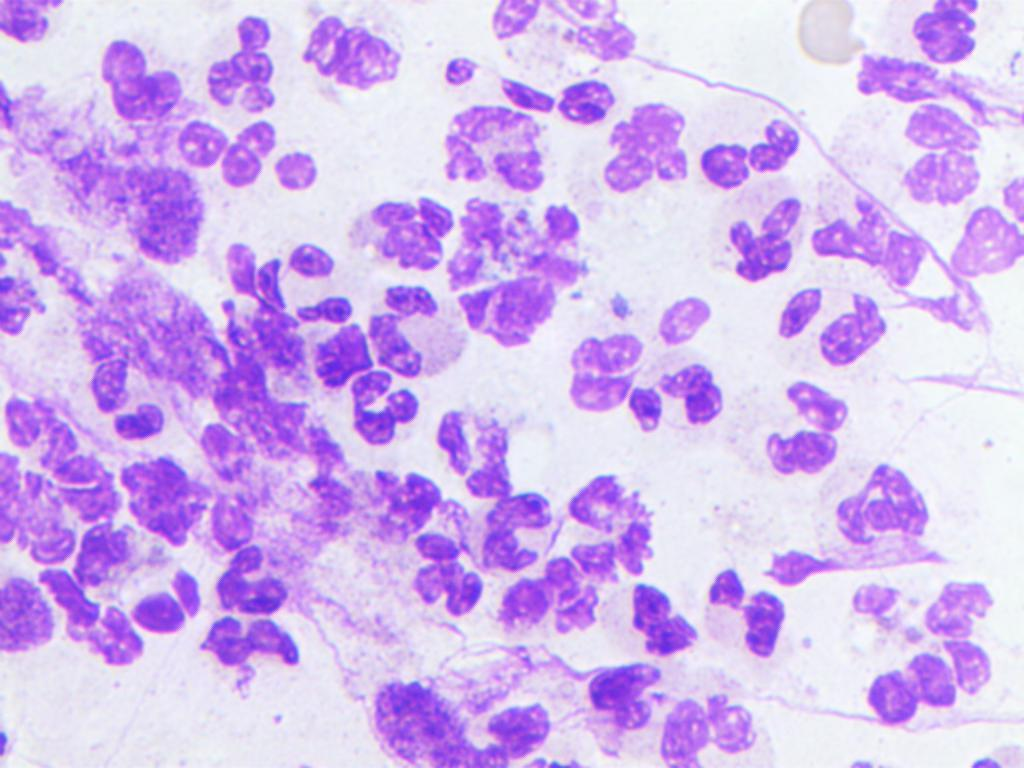erythrocyte: (789, 3, 873, 72)
neutrophil: (444, 188, 595, 344), (352, 658, 560, 768), (838, 619, 998, 740), (20, 559, 158, 676), (426, 91, 560, 205), (158, 114, 338, 196), (701, 178, 822, 292), (821, 450, 943, 561), (184, 401, 314, 505), (544, 474, 659, 589), (175, 610, 315, 700), (765, 268, 886, 369), (750, 371, 855, 486), (483, 549, 612, 641), (293, 4, 408, 106), (643, 679, 773, 768), (430, 396, 540, 500), (367, 276, 472, 383), (247, 230, 354, 334), (893, 91, 985, 211), (846, 573, 997, 646), (338, 186, 463, 274), (195, 534, 324, 619), (693, 106, 817, 193), (463, 471, 567, 574), (600, 96, 700, 203), (698, 556, 794, 665), (943, 165, 1024, 294), (70, 353, 172, 455), (563, 655, 683, 740), (624, 346, 737, 436), (84, 23, 189, 118), (491, 0, 636, 66), (554, 320, 651, 416), (201, 6, 283, 110), (119, 544, 207, 640), (359, 450, 438, 554), (335, 358, 432, 441), (400, 530, 487, 619), (620, 576, 706, 666), (907, 0, 983, 72), (643, 286, 724, 349)
